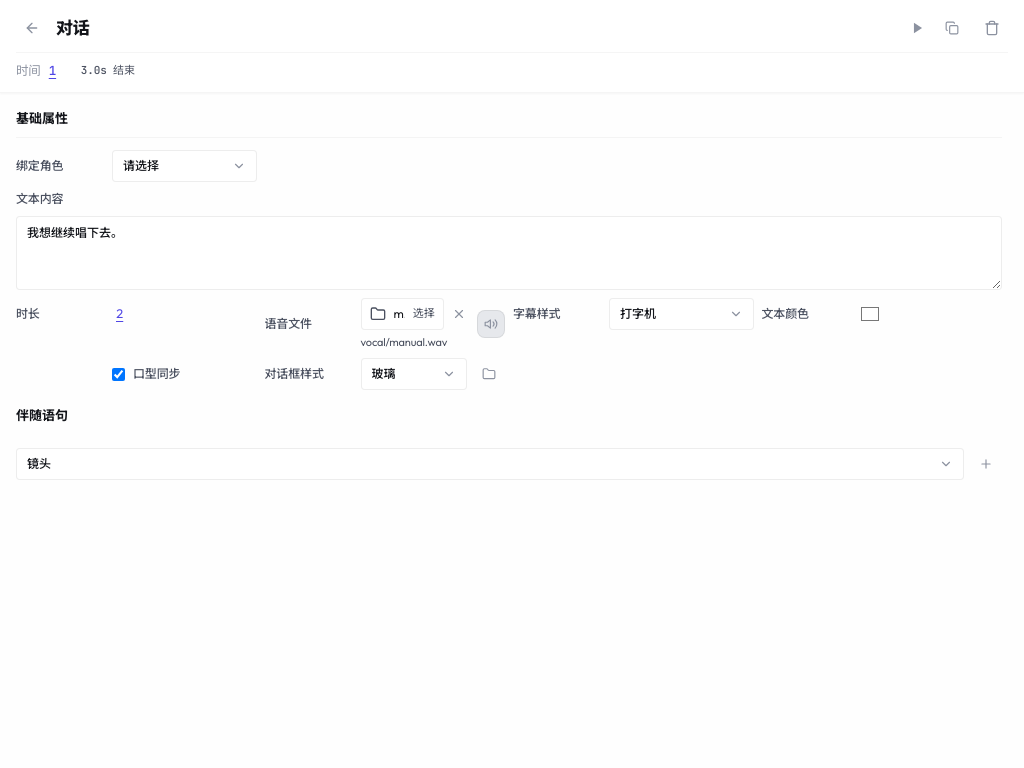
Test: ActionInspector GPT-SoVITS voice workbench entry › exposes the resource browser button on the dialogue voice field and opens asset browser
Click the button "manual.wav 选择" at (402, 314), box left=360, top=298, right=444, bottom=330
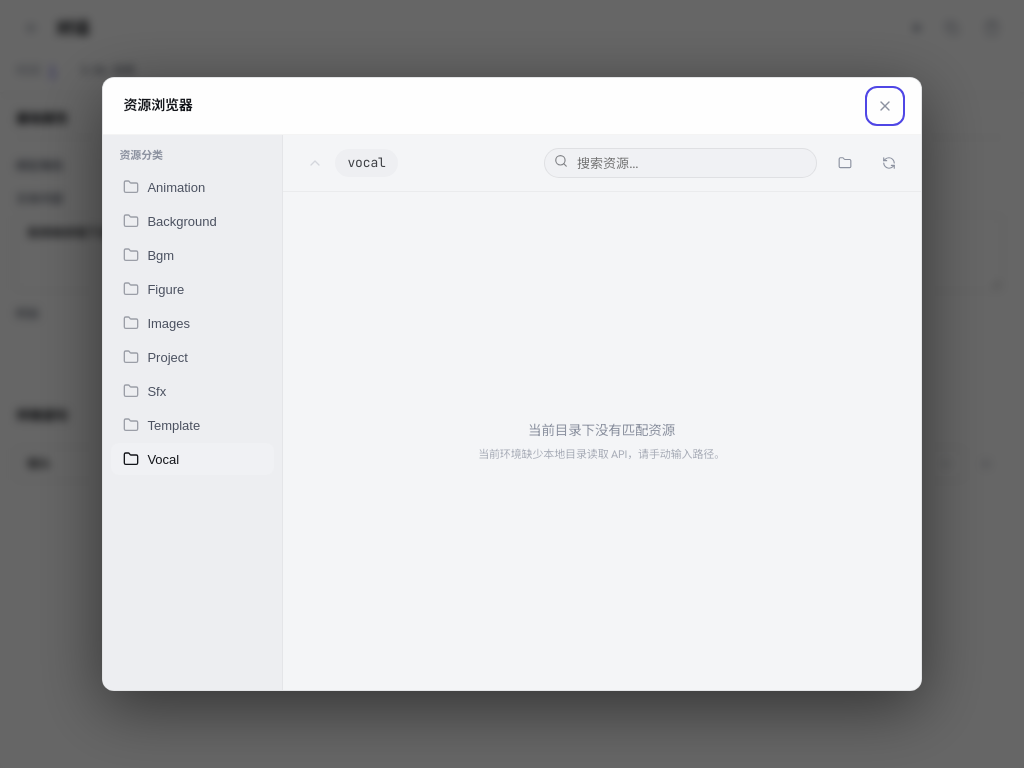
Expected: the dialog "资源浏览器" is shown
